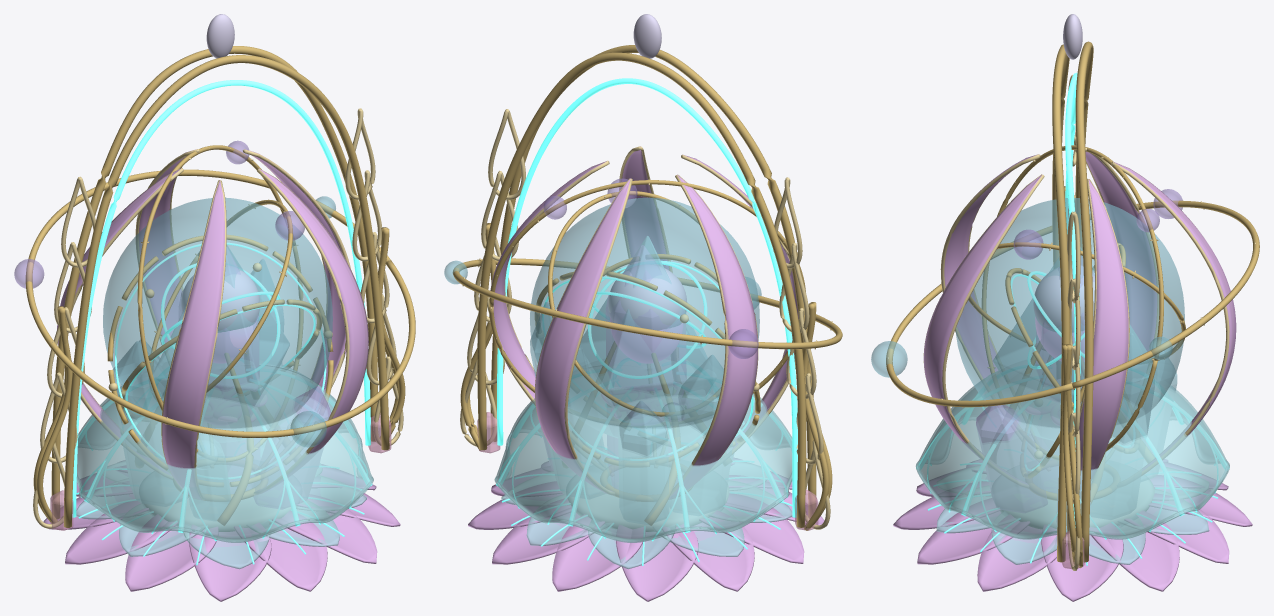
Rendered from dream-kit.glb.
The picture shows the model from 3 angles, left to right: view 1: azimuth 30°, elevation 25°; view 2: azimuth 150°, elevation 25°; view 3: azimuth 270°, elevation 25°; orthographic projection.
Visible parts, largest first — view 1: EngineOrb, JellyMembrane, DreamEngine_membrane_petal, GateFrame_gold_brushed_champagne, LotusPlatform_membrane_petal, GateFrame_gold_pale_edges, CrystalCluster_glass_clear_cyan, OrreryOrbit00, RelayPrism, LotusPlatform_membrane_opaline, DreamEngine_gold_pale_edges, CrystalCluster_glass_amethyst (+18 smaller); view 2: JellyMembrane, EngineOrb, DreamEngine_membrane_petal, LotusPlatform_membrane_petal, GateFrame_gold_brushed_champagne, CrystalCluster_glass_clear_cyan, RelayPrism, GateFrame_gold_pale_edges, CrystalCluster_glass_amethyst, LotusPlatform_membrane_opaline, DreamEngine_gold_pale_edges, GateInnerCanal (+16 smaller); view 3: JellyMembrane, EngineOrb, DreamEngine_membrane_petal, LotusPlatform_membrane_petal, GateFrame_gold_brushed_champagne, CrystalCluster_glass_clear_cyan, CrystalCluster_glass_amethyst, DreamEngine_gold_pale_edges, LotusPlatform_membrane_opaline, OrreryOrbit00, RelayPrism, GateFrame_gold_pale_edges (+15 smaller).
Part boxes in pixels (left/top/right/bottom): EngineOrb: left=103, top=198, right=332, bottom=439; JellyMembrane: left=76, top=361, right=373, bottom=541; DreamEngine_membrane_petal: left=57, top=149, right=368, bottom=499; GateFrame_gold_brushed_champagne: left=33, top=46, right=405, bottom=527; LotusPlatform_membrane_petal: left=41, top=460, right=400, bottom=601; GateFrame_gold_pale_edges: left=33, top=108, right=403, bottom=528; CrystalCluster_glass_clear_cyan: left=113, top=259, right=283, bottom=520; OrreryOrbit00: left=25, top=169, right=415, bottom=437; RelayPrism: left=153, top=245, right=289, bottom=405; LotusPlatform_membrane_opaline: left=76, top=461, right=366, bottom=569; DreamEngine_gold_pale_edges: left=71, top=149, right=368, bottom=499; CrystalCluster_glass_amethyst: left=179, top=248, right=331, bottom=508; JellyMembrane: left=495, top=360, right=792, bottom=541; EngineOrb: left=530, top=197, right=759, bottom=437; DreamEngine_membrane_petal: left=490, top=146, right=798, bottom=498; LotusPlatform_membrane_petal: left=468, top=458, right=827, bottom=601; GateFrame_gold_brushed_champagne: left=460, top=45, right=832, bottom=530; CrystalCluster_glass_clear_cyan: left=530, top=302, right=742, bottom=524; RelayPrism: left=581, top=236, right=716, bottom=405; GateFrame_gold_pale_edges: left=460, top=109, right=830, bottom=529; CrystalCluster_glass_amethyst: left=542, top=245, right=686, bottom=488; LotusPlatform_membrane_opaline: left=501, top=450, right=792, bottom=569; DreamEngine_gold_pale_edges: left=494, top=146, right=795, bottom=495; GateInnerCanal: left=497, top=78, right=797, bottom=517; JellyMembrane: left=916, top=365, right=1229, bottom=538; EngineOrb: left=955, top=198, right=1184, bottom=440; DreamEngine_membrane_petal: left=923, top=151, right=1236, bottom=479; LotusPlatform_membrane_petal: left=893, top=459, right=1252, bottom=601; GateFrame_gold_brushed_champagne: left=1052, top=41, right=1093, bottom=568; CrystalCluster_glass_clear_cyan: left=1090, top=333, right=1177, bottom=519; CrystalCluster_glass_amethyst: left=976, top=256, right=1094, bottom=528; DreamEngine_gold_pale_edges: left=923, top=147, right=1229, bottom=487; LotusPlatform_membrane_opaline: left=936, top=465, right=1209, bottom=564; OrreryOrbit00: left=886, top=200, right=1259, bottom=407; RelayPrism: left=993, top=247, right=1152, bottom=402; GateFrame_gold_pale_edges: left=1067, top=75, right=1080, bottom=570.
Size of the model in its own units: 2.37 by 3.14 by 2.16.
